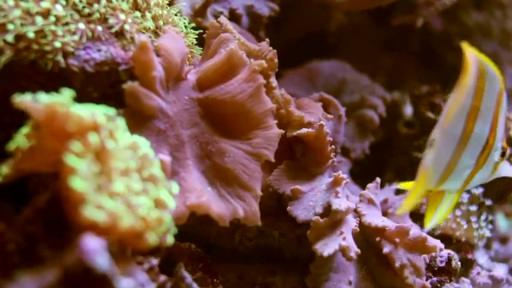Fish: (397, 41, 511, 231)
